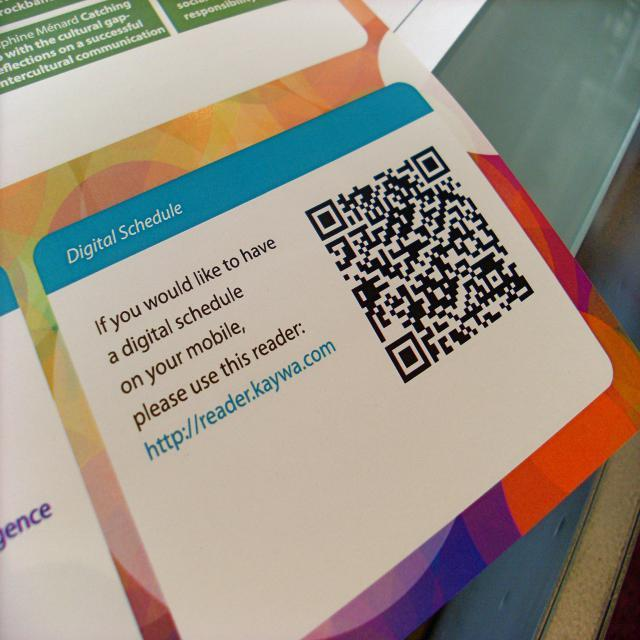qrcode: (306, 147, 536, 385)
